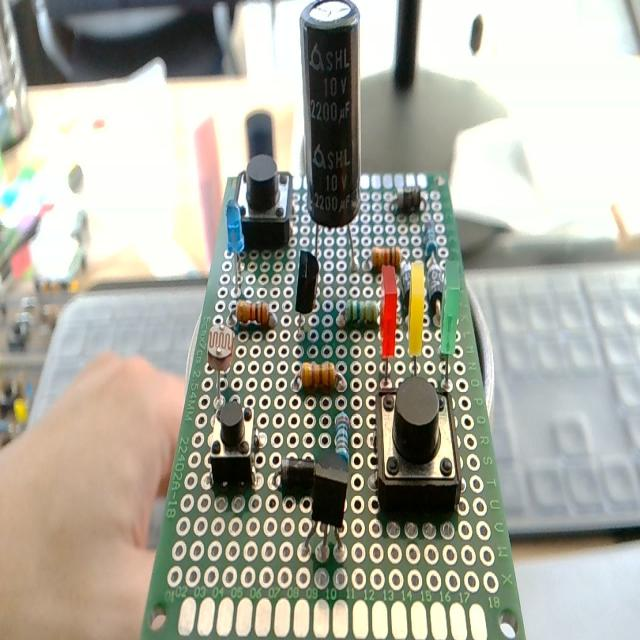Electrolytic capacitor: (296, 0, 363, 285)
cds: (203, 322, 239, 413)
diode: (269, 452, 323, 510), (386, 182, 431, 212)
led: (438, 252, 463, 398), (377, 258, 400, 396), (222, 199, 252, 300), (406, 256, 426, 387)
resistor: (284, 354, 350, 402), (220, 299, 286, 337), (338, 296, 387, 337), (333, 410, 355, 478), (367, 241, 409, 269), (422, 224, 439, 259)
switch: (368, 375, 466, 548), (230, 155, 296, 257), (205, 396, 265, 504)
transistor: (309, 448, 351, 572), (293, 243, 320, 349)
